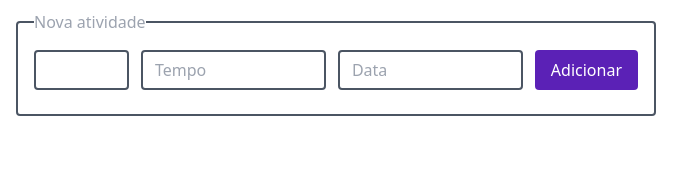
Test: FormCreateActivity component › should be able to render loading text in button
Click the button "Adicionar": (586, 70) [535,50,638,90]
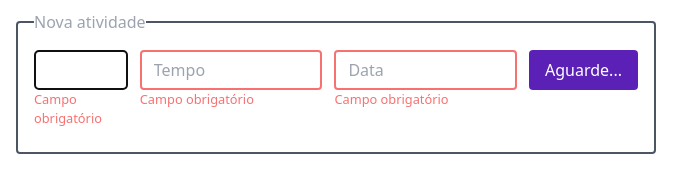
Expected: the button "Aguarde..." is shown, [529,50,638,90]
